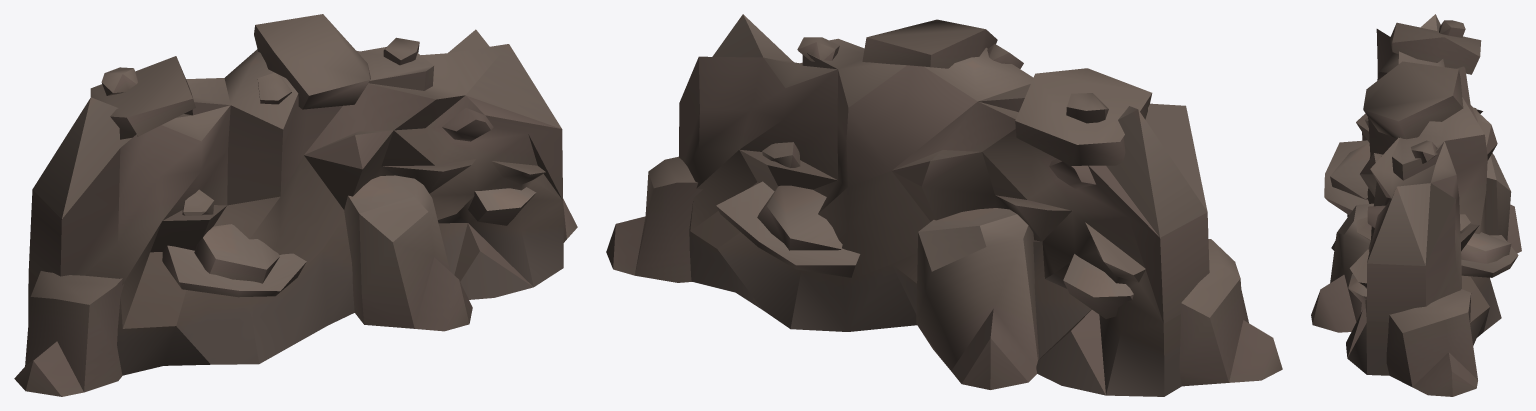
Rendered from rubble_large.glb.
3 views of the same model, side by side, from view 1: azimuth 30°, elevation 25°; view 2: azimuth 150°, elevation 25°; view 3: azimuth 270°, elevation 25° (orthographic). The views are drawn at different scales.
Parts seen in each view (by area): view 1: rubble_large; view 2: rubble_large; view 3: rubble_large.
Part boxes in pixels (<box>): rubble_large: <box>14,14,577,396</box>; rubble_large: <box>606,14,1282,396</box>; rubble_large: <box>1311,14,1521,396</box>.
Size of the model in its own units: 8.13 by 3.5 by 3.18.
1 material, 1 textured.
